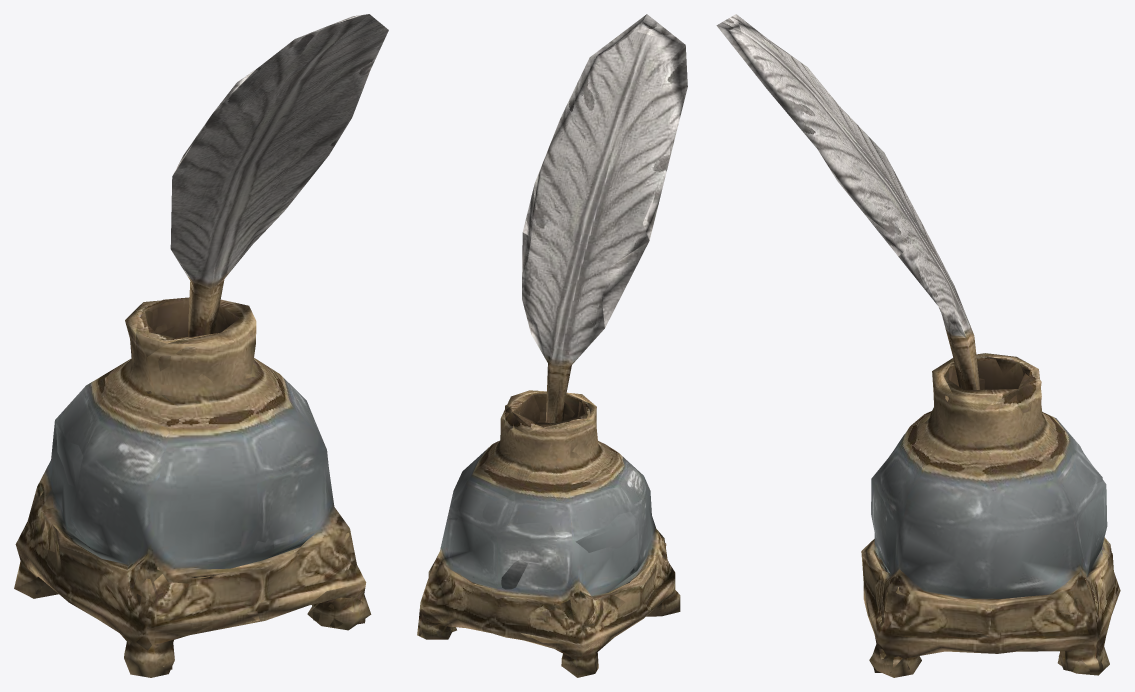
Rendered from inkwell.glb.
The picture shows the model from 3 angles, left to right: view 1: azimuth 30°, elevation 25°; view 2: azimuth 150°, elevation 25°; view 3: azimuth 270°, elevation 25°; orthographic projection. The views are drawn at different scales.
Parts seen in each view (by area): view 1: prop-inkwell; view 2: prop-inkwell; view 3: prop-inkwell.
Boxes of the visible parts, x1=… form: prop-inkwell: x1=14, y1=14, x2=388, y2=677; prop-inkwell: x1=417, y1=14, x2=687, y2=677; prop-inkwell: x1=716, y1=14, x2=1120, y2=677.
Size of the model in its own units: 0.1778 by 0.45 by 0.2683.
1 material, 1 textured.
